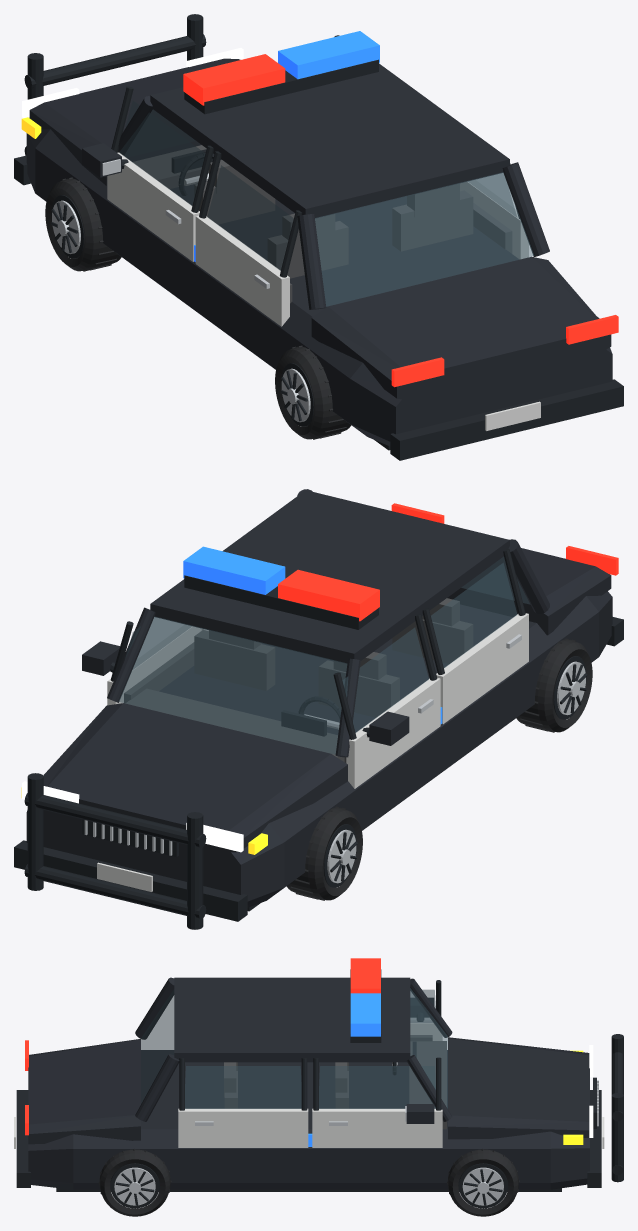
File: police_cruiser.glb
The picture shows the model from 3 angles, top to bottom: view 1: azimuth 30°, elevation 25°; view 2: azimuth 150°, elevation 25°; view 3: azimuth 270°, elevation 25°; orthographic projection. The views are drawn at different scales.
Parts seen in each view (by area): view 1: Body, Door_RL, Door_FL, Wheel_FL, Wheel_RL, Door_RR; view 2: Body, Door_RL, Door_FL, Door_FR, Wheel_RL, Wheel_FL; view 3: Body, Door_RR, Door_FR, Wheel_RR, Wheel_FR, Door_FL.
Part boxes in pixels (x1,y1,x2,y2): Body: [14, 14, 623, 460]; Door_RL: [195, 151, 301, 326]; Door_FL: [82, 86, 213, 261]; Wheel_FL: [45, 177, 121, 271]; Wheel_RL: [275, 345, 351, 439]; Door_RR: [460, 163, 528, 259]; Body: [14, 489, 623, 929]; Door_RL: [422, 548, 528, 724]; Door_FL: [333, 613, 440, 788]; Door_FR: [82, 617, 201, 705]; Wheel_RL: [516, 638, 592, 732]; Wheel_FL: [286, 806, 362, 900]; Body: [14, 958, 623, 1191]; Door_RR: [178, 1058, 308, 1147]; Door_FR: [312, 1057, 442, 1147]; Wheel_RR: [98, 1149, 171, 1216]; Wheel_FR: [447, 1149, 519, 1216]; Door_FL: [410, 980, 442, 1041].
Size of what is drawn, in the model's own units: 2.43 by 1.76 by 5.48.
